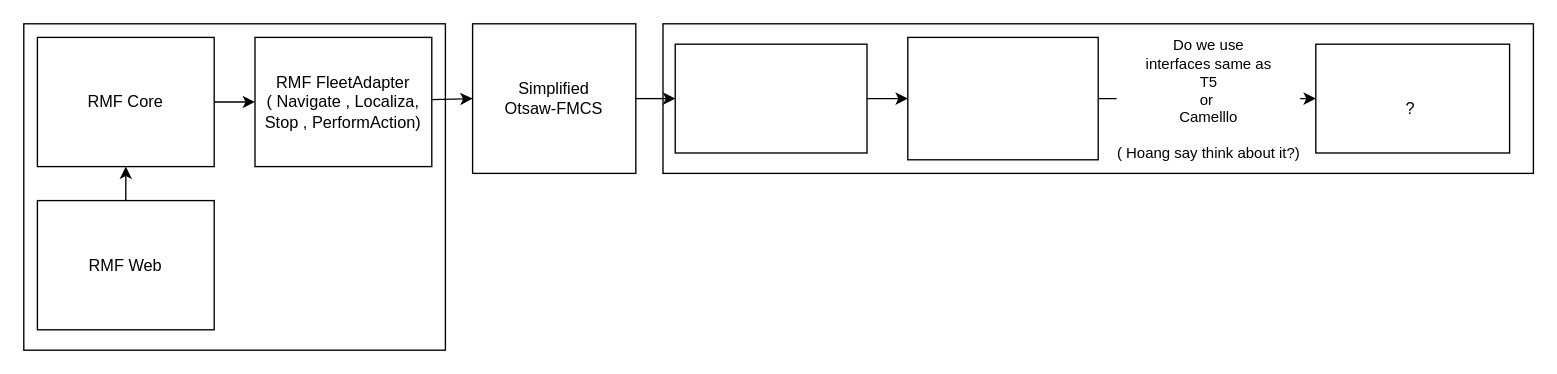
This 1557x374 diagram has some shape labels left out. Each missing label, with the centre of its shape:
RMF INTERPRETER: the point at 770,98
Taskexecutor ???? BT ????: the point at 1002,98
